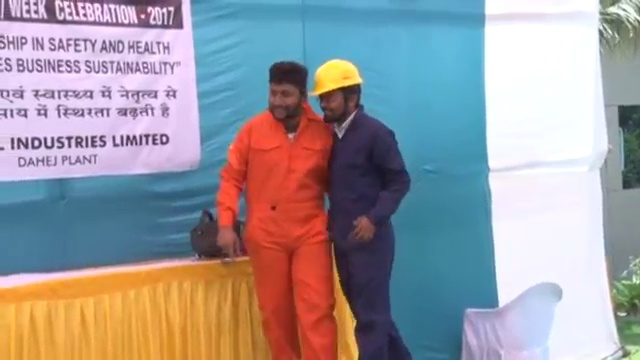helmet: (308, 58, 363, 95)
helmet_off: (266, 59, 307, 130)
helmet_on: (307, 57, 367, 126)
person: (215, 59, 337, 360), (308, 54, 411, 360)
